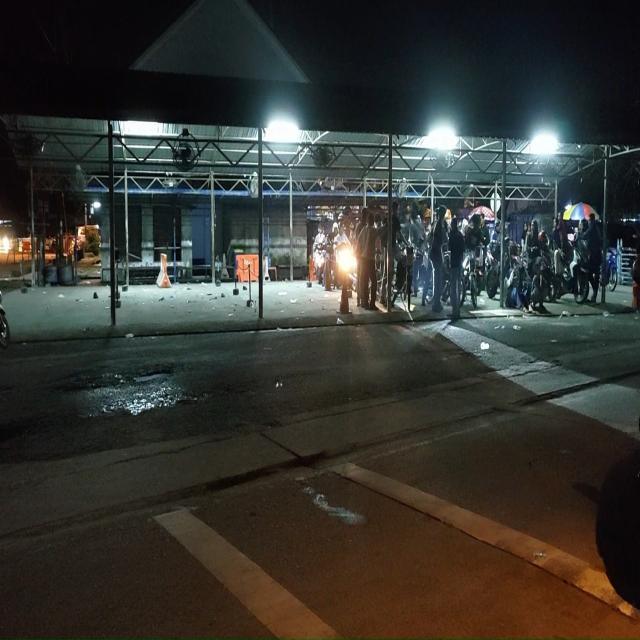Golongan II: (550, 240, 589, 305), (423, 250, 450, 304), (461, 246, 484, 309), (486, 240, 500, 299), (601, 248, 618, 292), (313, 242, 329, 286)
